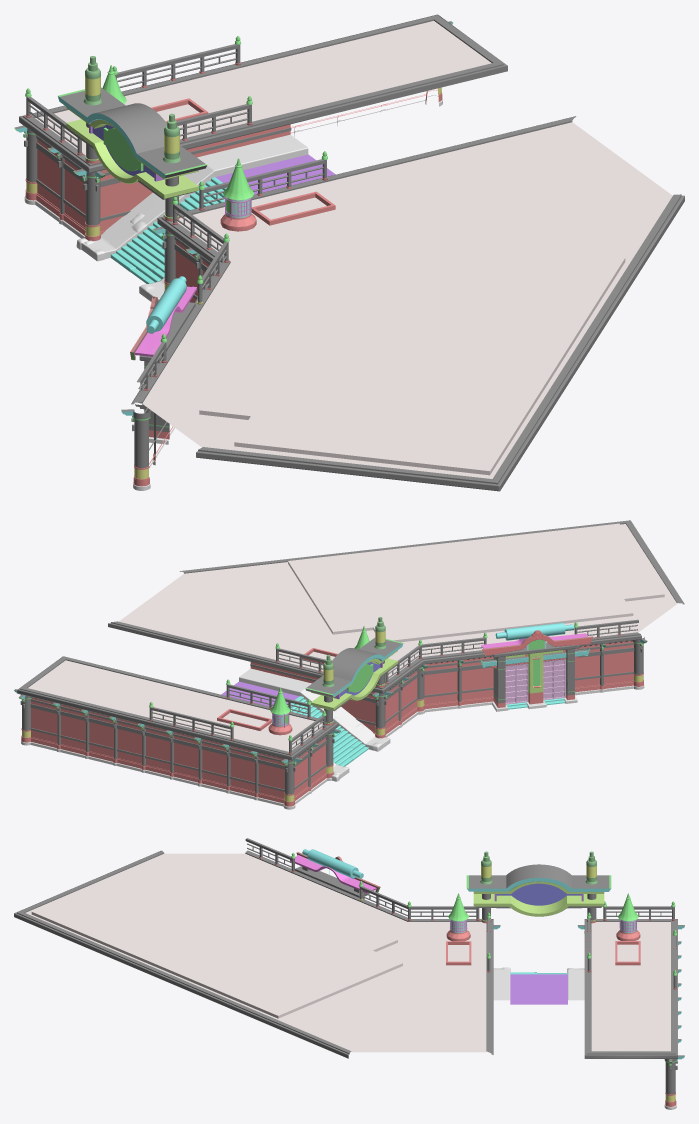
File: SM_ENV_LKNVLD_VRArena_Front.gltf
The picture shows the model from 3 angles, top to bottom: view 1: azimuth 30°, elevation 25°; view 2: azimuth 150°, elevation 25°; view 3: azimuth 270°, elevation 25°; orthographic projection. The views are drawn at different scales.
Parts seen in each view (by area): view 1: SM_ENV_LKNVLD_VRArena_Front; view 2: SM_ENV_LKNVLD_VRArena_Front; view 3: SM_ENV_LKNVLD_VRArena_Front.
Part boxes in pixels (left/top/right/bottom): SM_ENV_LKNVLD_VRArena_Front: left=14, top=14, right=684, bottom=491; SM_ENV_LKNVLD_VRArena_Front: left=14, top=520, right=684, bottom=809; SM_ENV_LKNVLD_VRArena_Front: left=14, top=838, right=684, bottom=1109.
Bounding box in the file's own units: 49.16 × 13.62 × 66.23.
